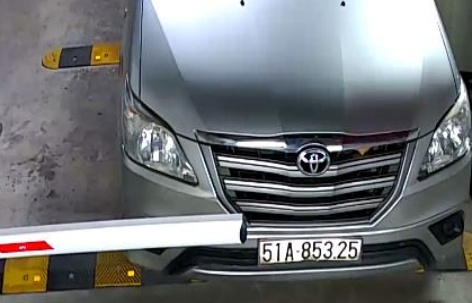plate: (254, 233, 363, 269)
